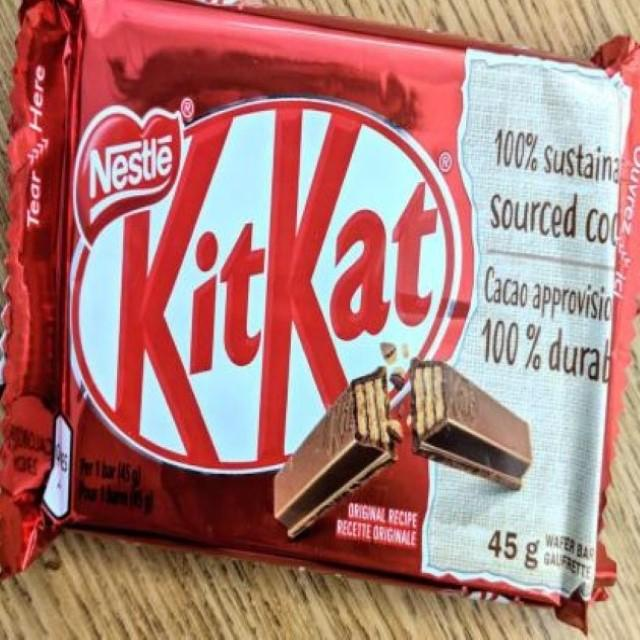kitkat_chocolate: (41, 0, 640, 560)
